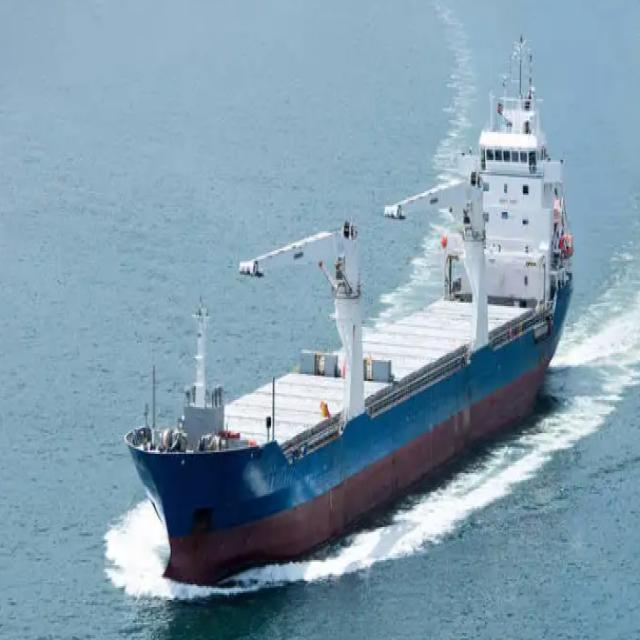cargoship: (120, 45, 577, 581)
